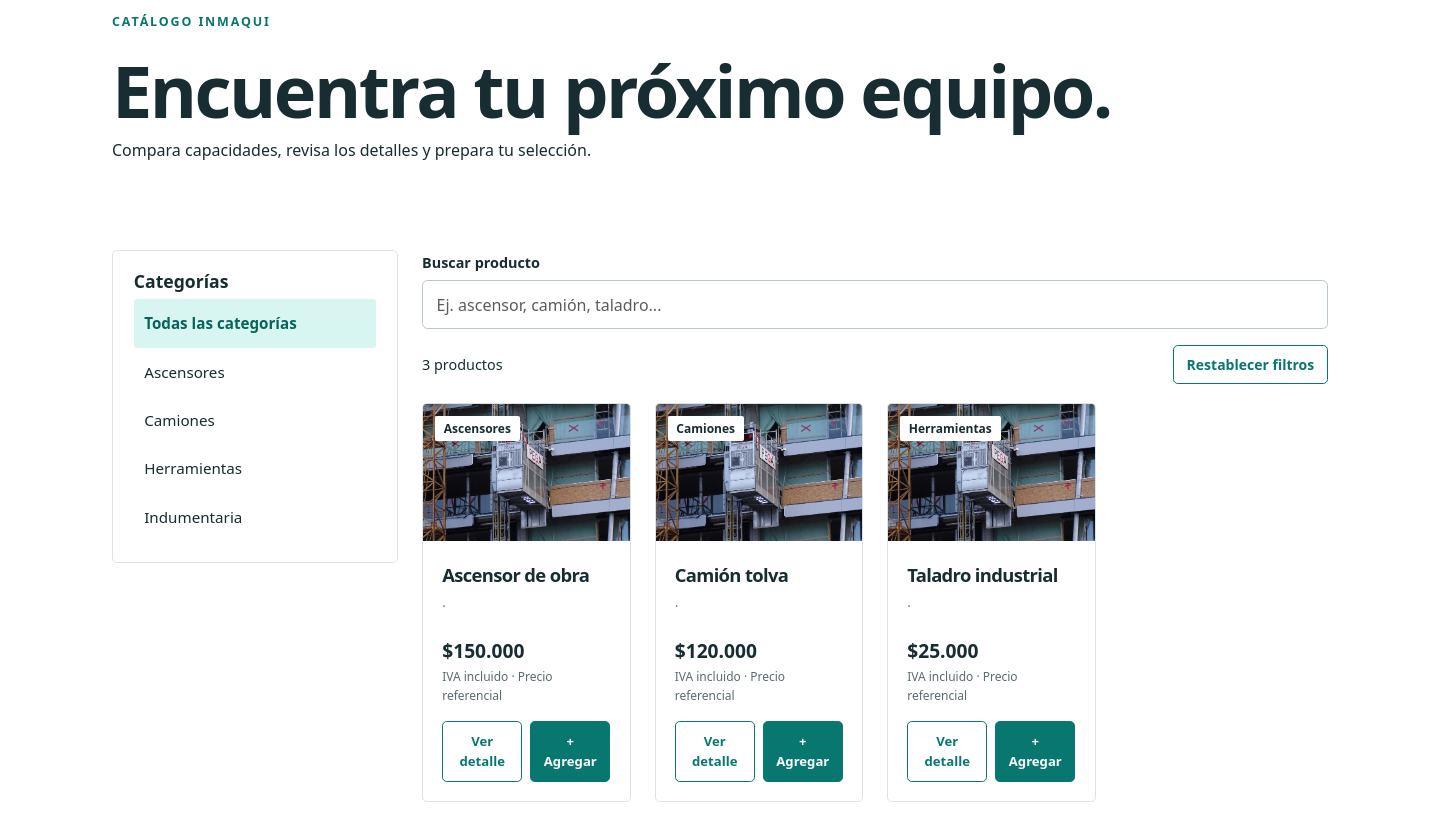
Test: Pruebas de componentes - Catálogo INMAQUI › muestra cero resultados cuando la búsqueda no coincide
This screenshot has width=1440, height=822.
Type "producto-inexistente-999" into the search field labelled "Buscar producto" at coordinates (875, 305), box [422,280,1328,329]
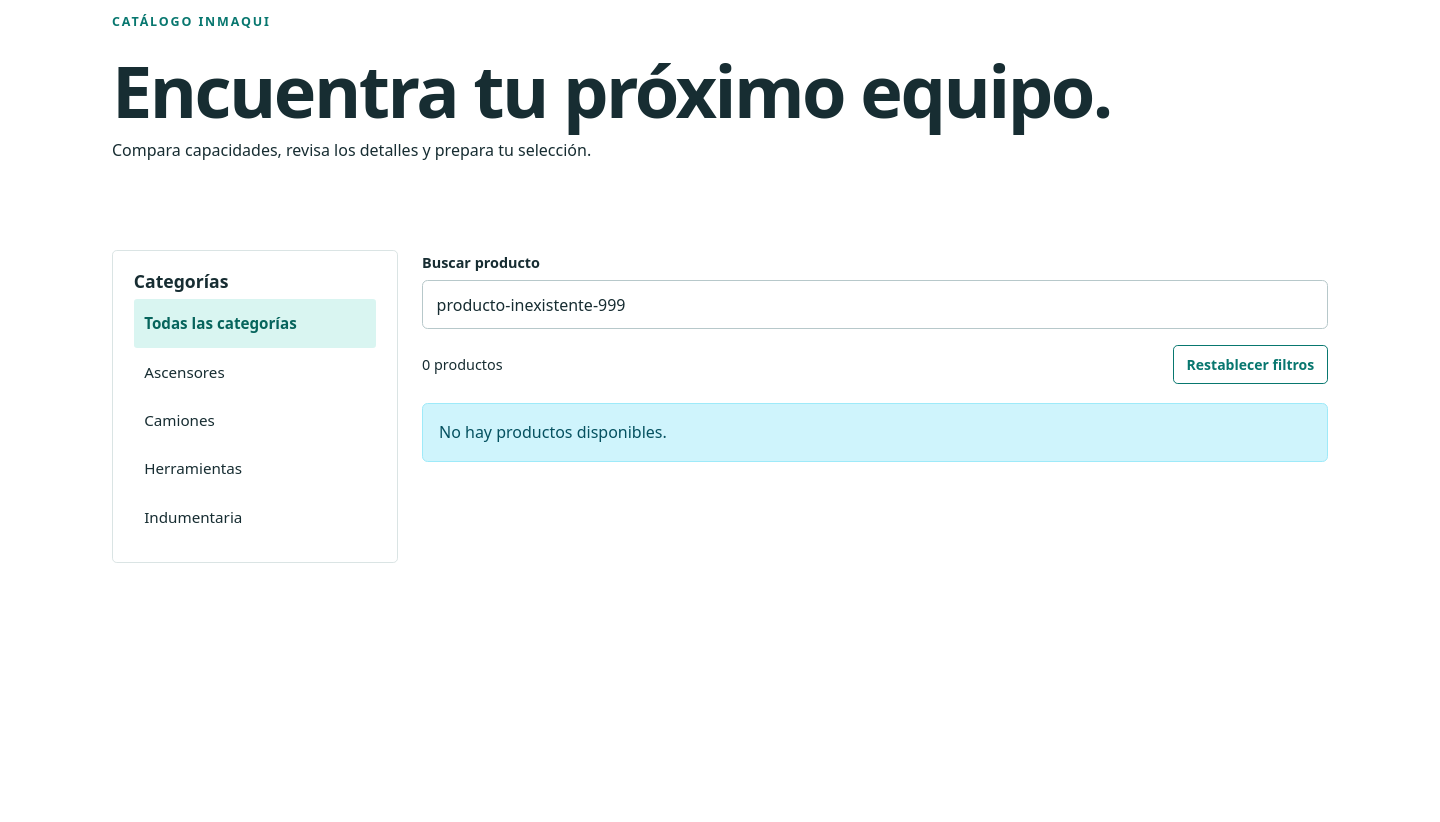
Now the text "0 productos" is shown, box [422,353,503,376]
Now the link "Ascensor de obra" is gone
Now the link "Camión tolva" is gone
